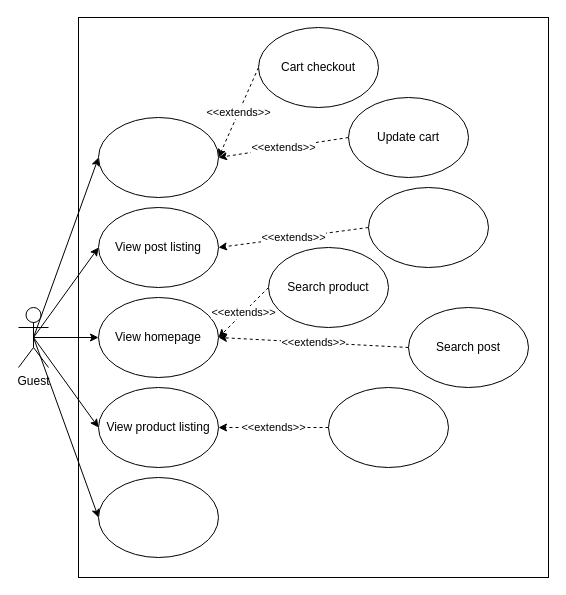
Some shapes in this 566 by 595 pixel diagram are drawn without their labels. Each missing label, with the centre of its shape:
"Register new account" goes at point (158, 517).
"View cart" goes at point (158, 157).
"View post details" goes at point (428, 227).
"View product details" goes at point (388, 427).
